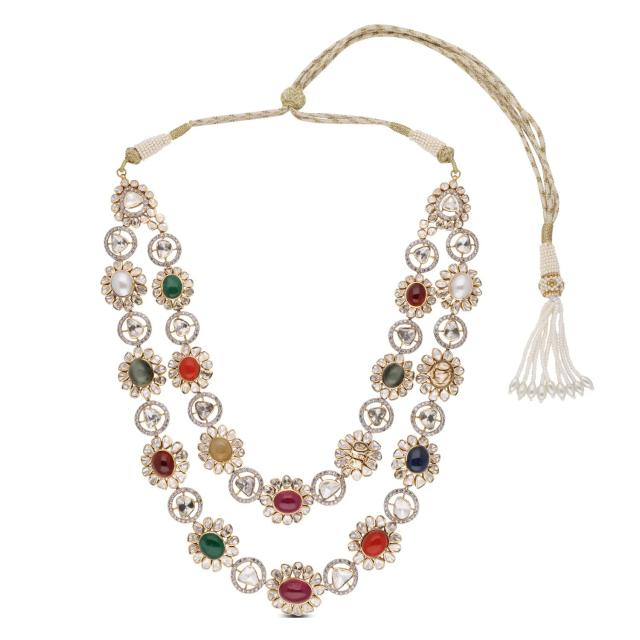missing gem: (347, 442, 369, 467), (432, 362, 453, 387)
